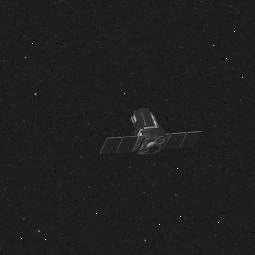soho: (98, 106, 205, 160)
